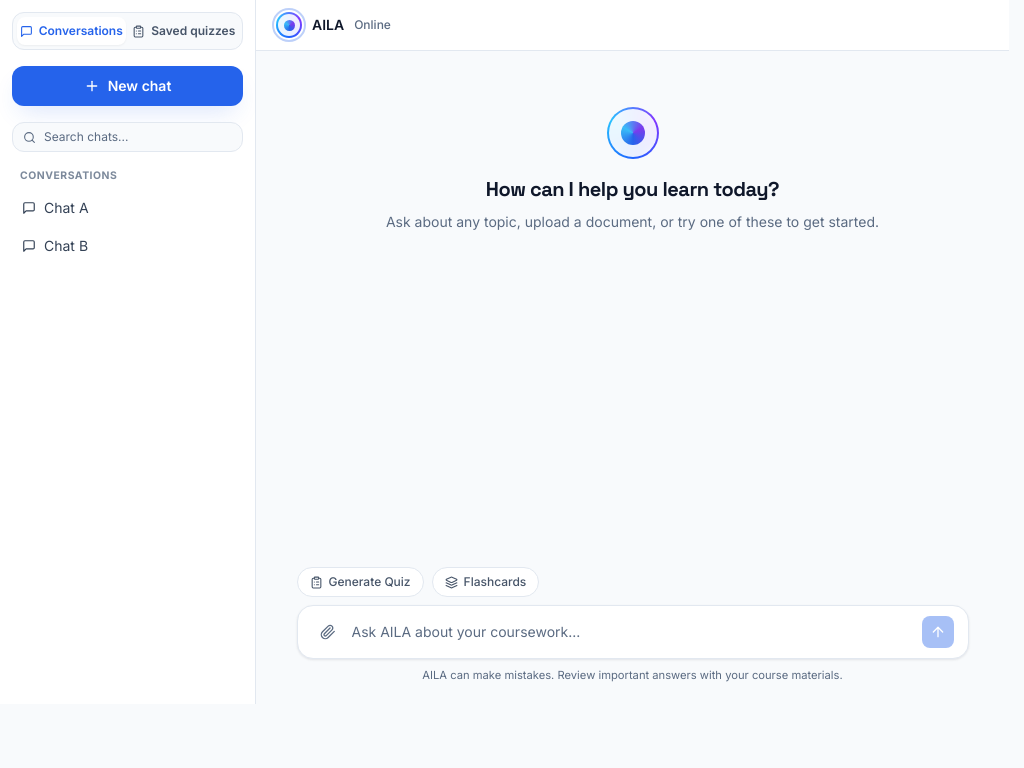
Scenario: AssistantPage — conversation-scoped thinking / message state › Scenario B/D: switching to another chat hides the indicator and the reply never lands there
The width and height of the screenshot is (1024, 768).
Click the button "Chat A".
click(128, 208)  # box [16,192,241,224]
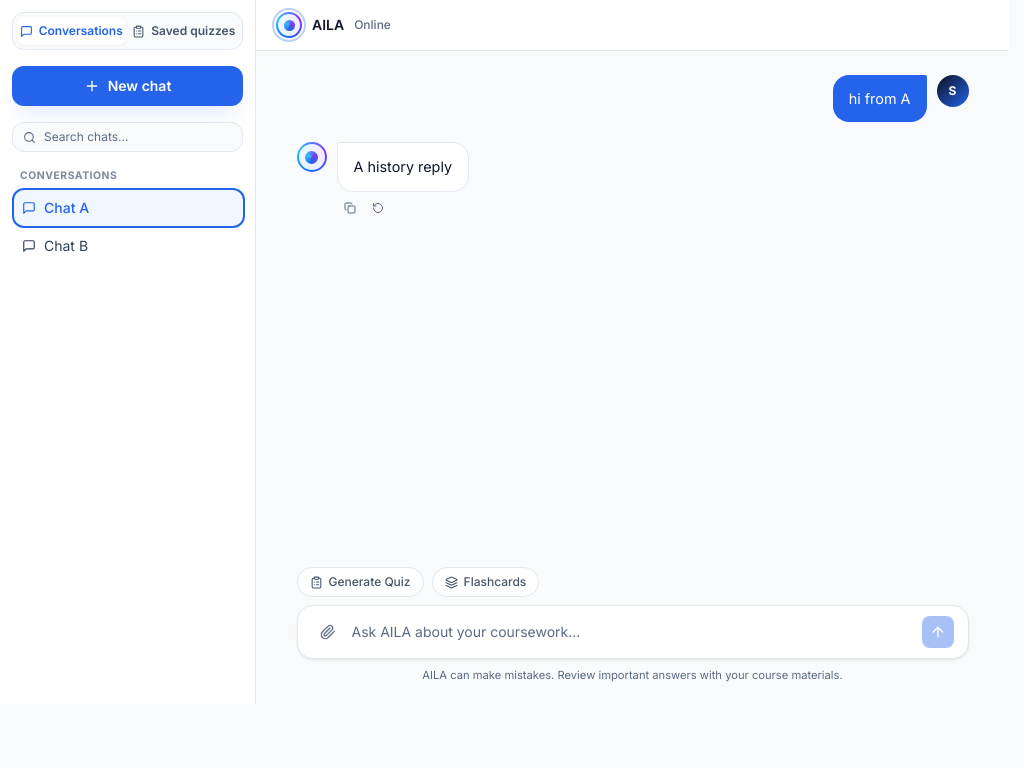
Result: the text "A history reply" is shown at [354,155,452,179]
Click the text box with placeholder "Ask AILA about your coursework...".
click(632, 632)  # box [352,616,914,648]
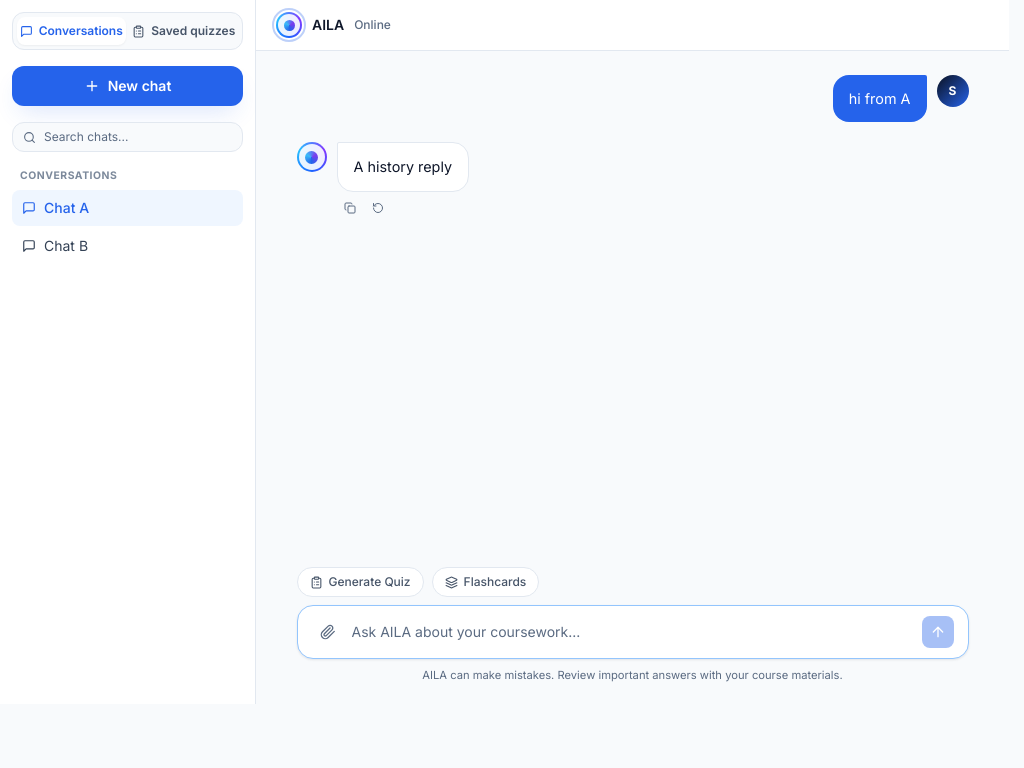
Type keys "a question in A"
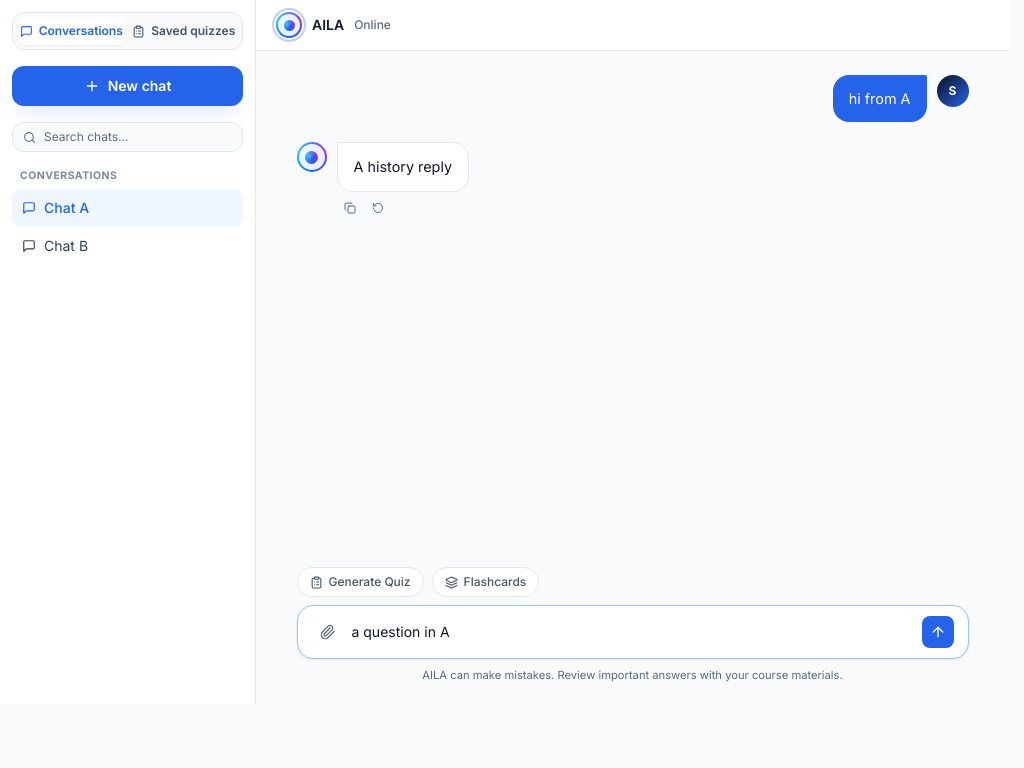
Click the button named "Send message".
click(938, 632)  # box [922,616,954,648]
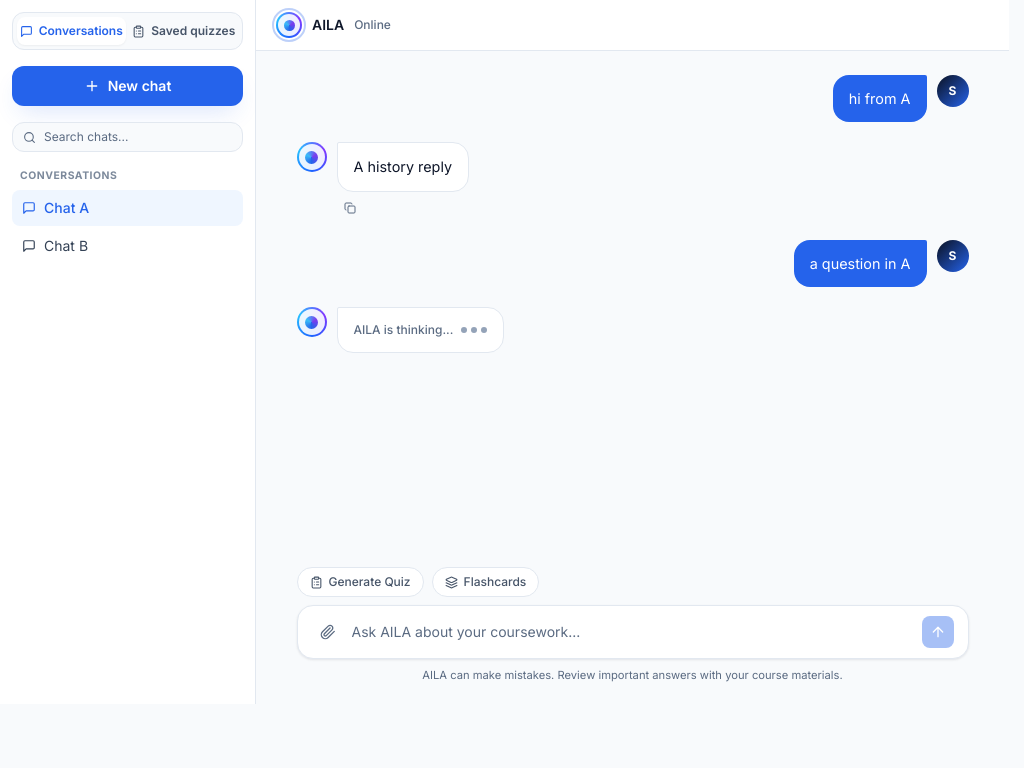
Click the button "Chat B".
click(128, 246)  # box [16,230,241,262]
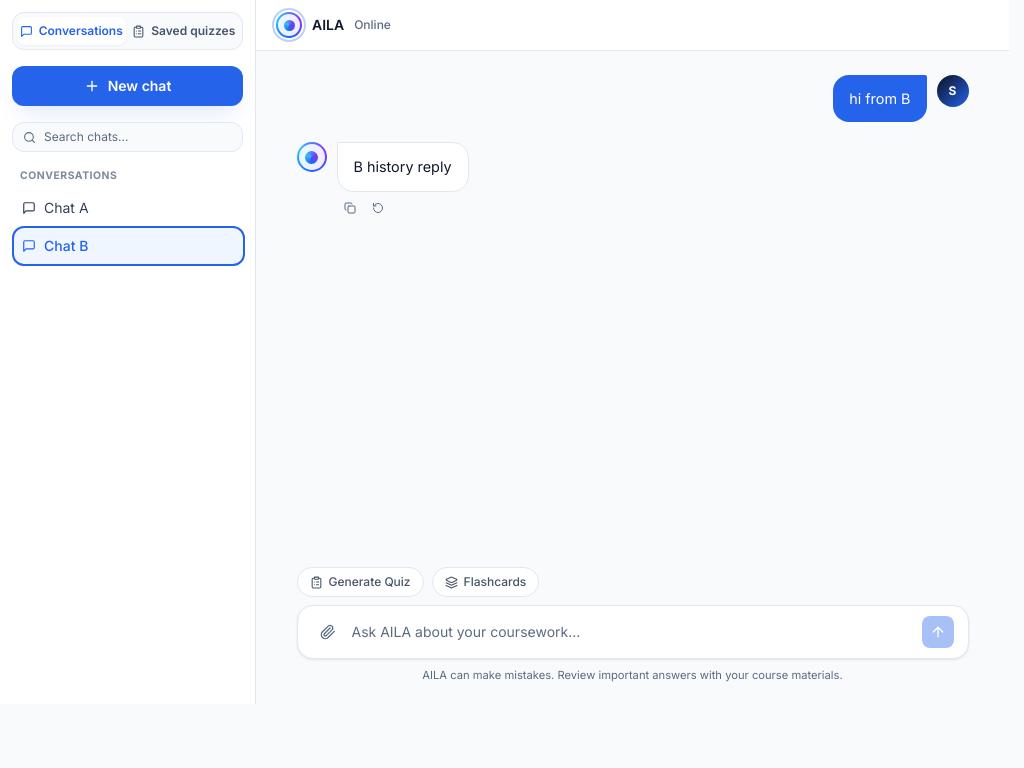
Expected: the text "answer for A" is not shown
Result: the text "B history reply" is shown at [354,155,452,179]
Click the button "Chat A".
click(128, 208)  # box [16,192,241,224]
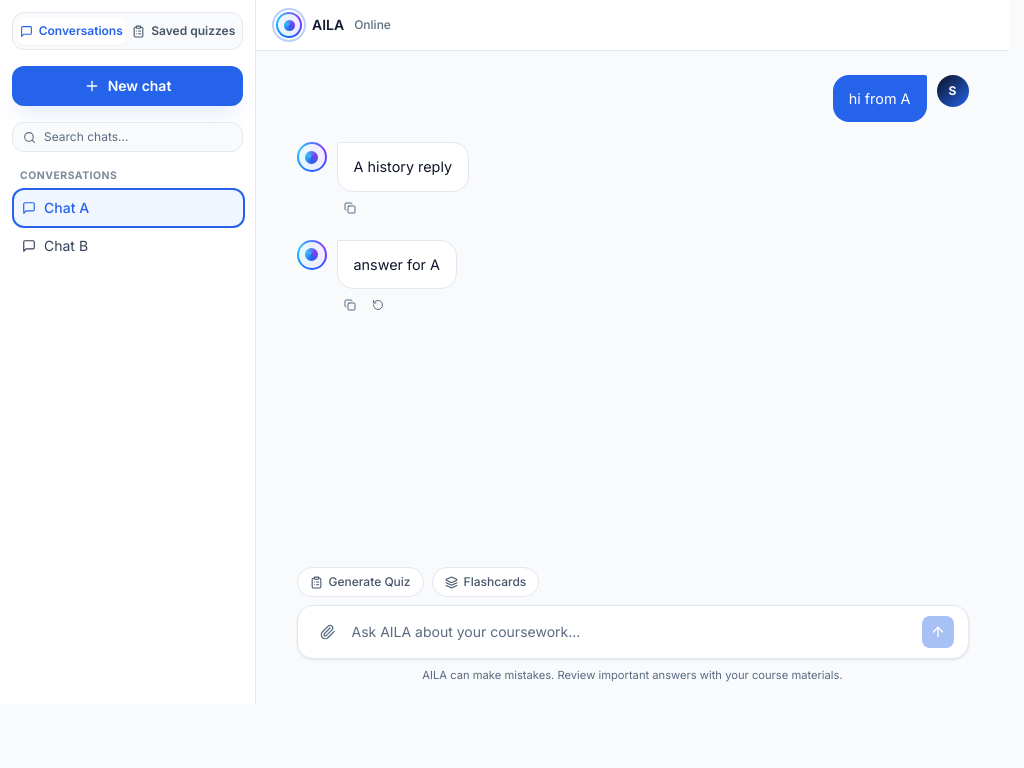
Result: the text "answer for A" is shown at [354,253,440,276]
